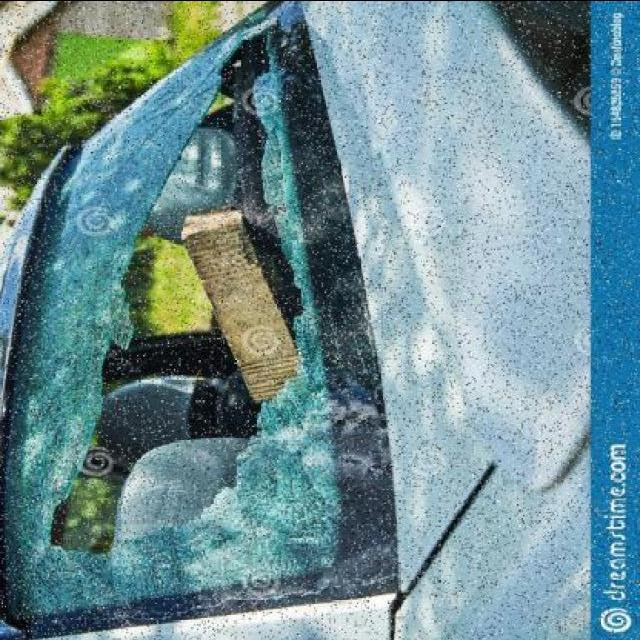Rear-windscreen-Damage: (0, 3, 431, 640)
